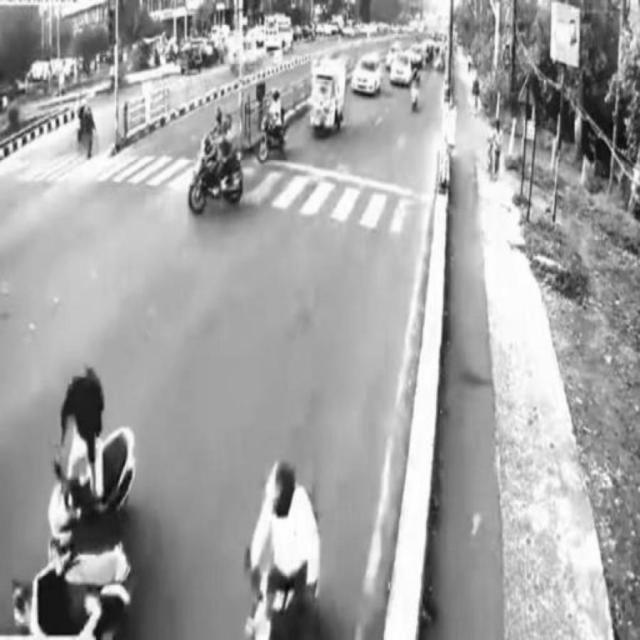accident: (16, 362, 150, 640)
vehicle: (241, 463, 329, 637), (186, 124, 243, 206), (309, 60, 346, 134), (258, 90, 292, 163), (354, 56, 384, 93)
